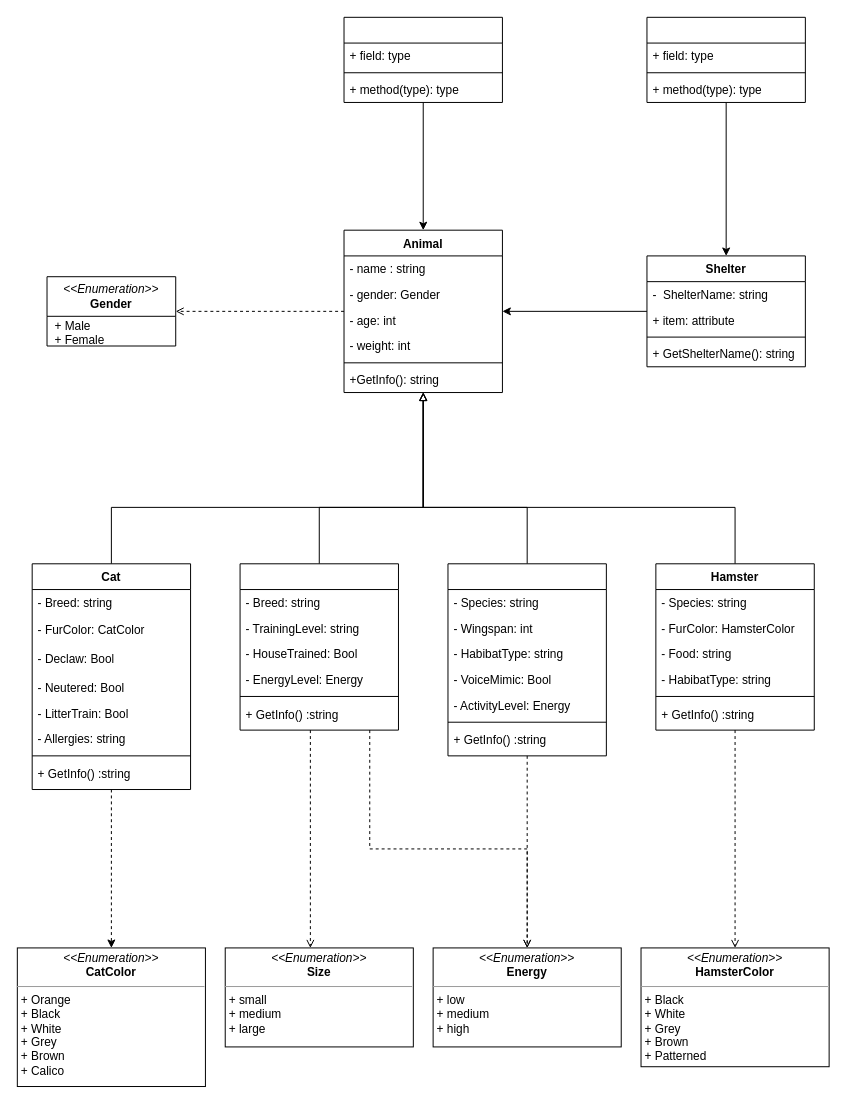
The diagram is 846 pixels wide and 1104 high, and some of its shapes have lost their labels. Each missing label, with the box of its shape:
AnimalManager: (343, 16, 502, 102)
Birds: (447, 563, 606, 756)
Dog: (239, 563, 398, 730)
ShelterManager: (646, 16, 805, 102)
